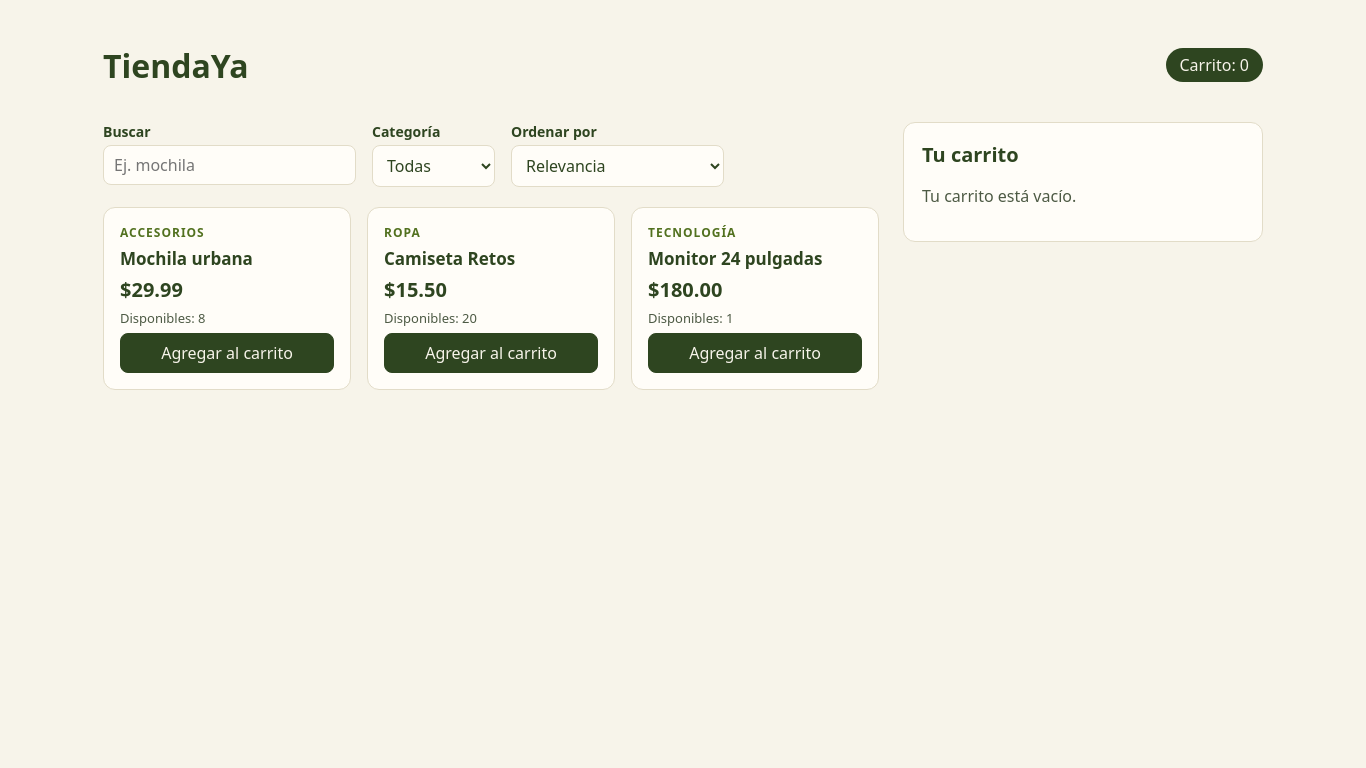
Tienda › agregar productos actualiza el contador y el carrito
Click the button "Agregar al carrito" below "Disponibles: 8" at (227, 353), box [120,333,334,373]
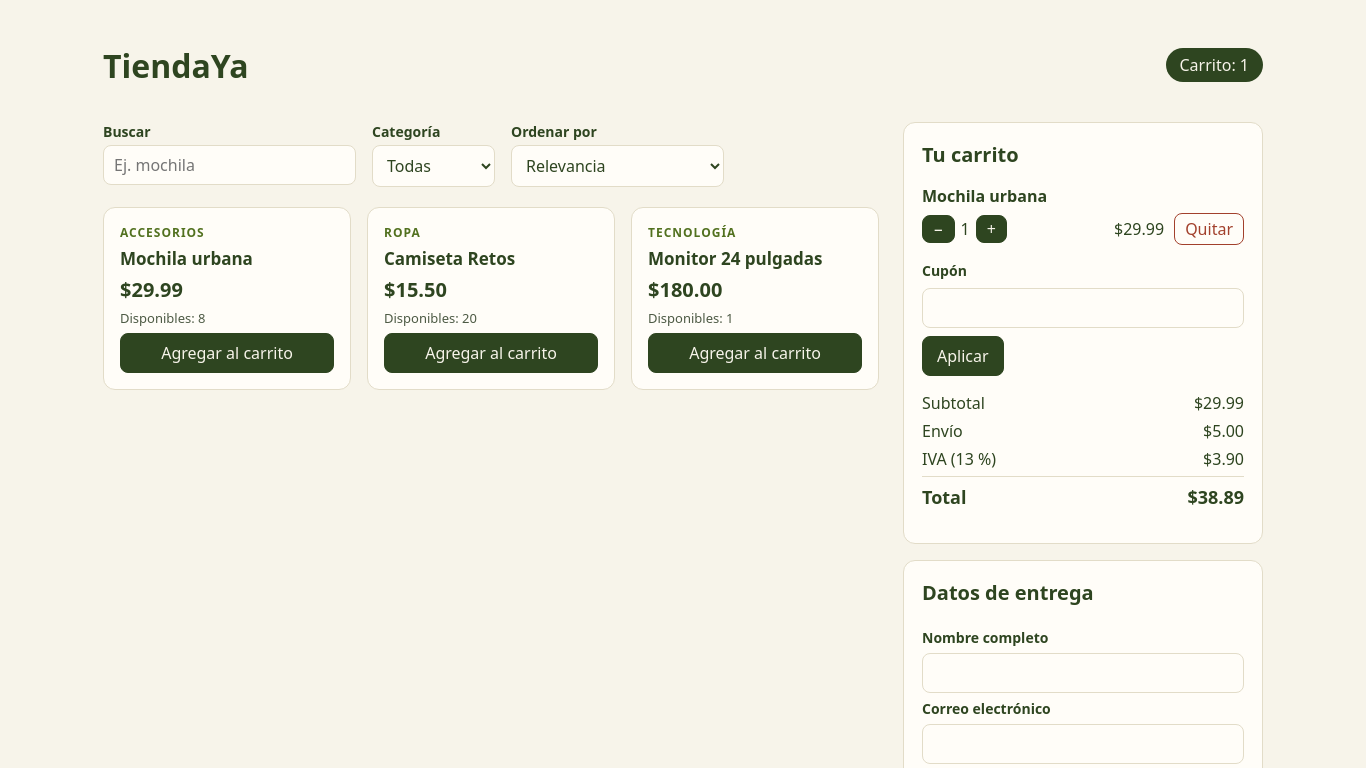
Click the button "Agregar al carrito" below "Disponibles: 8" at (227, 353), box [120,333,334,373]
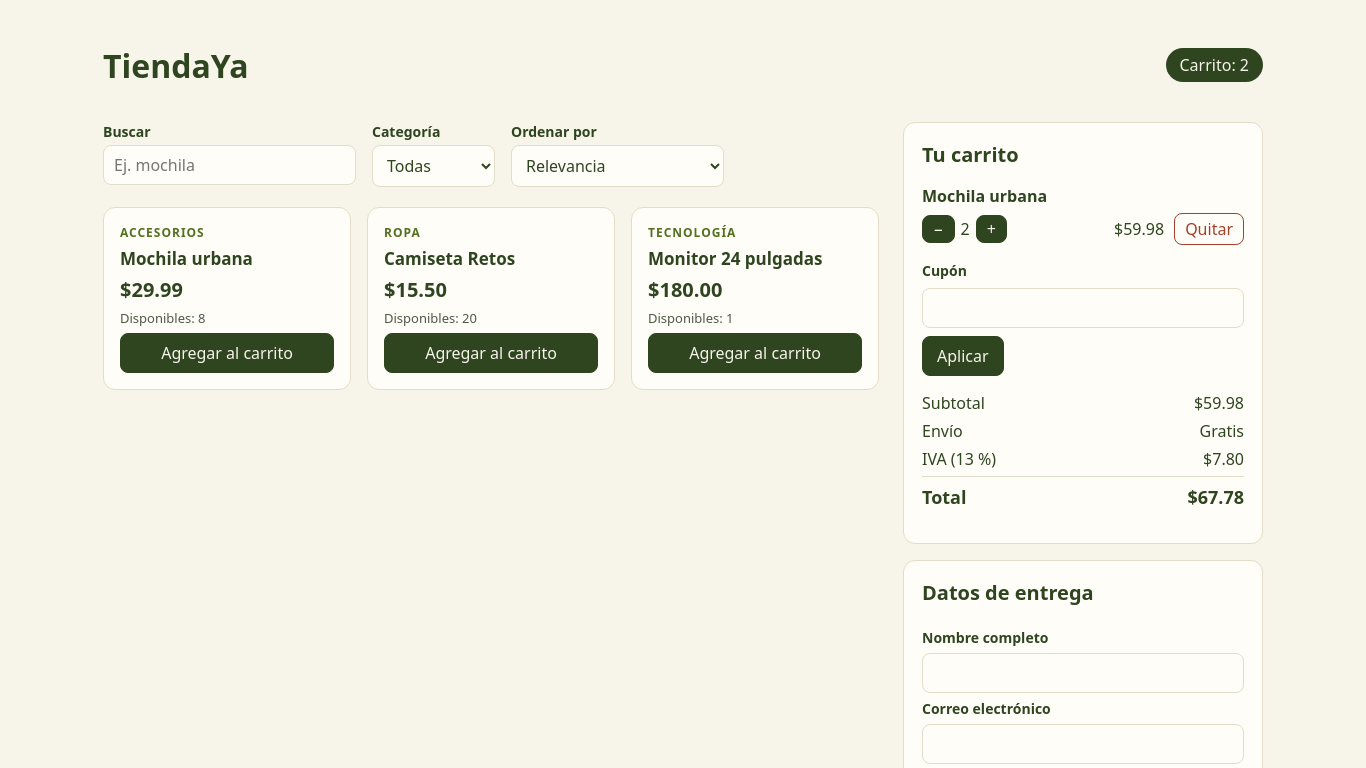
Expected: the text "Mochila urbana" is shown, [922,185,1047,207]
Expected: the text "Carrito: 2" is shown, [1166,48,1263,82]
